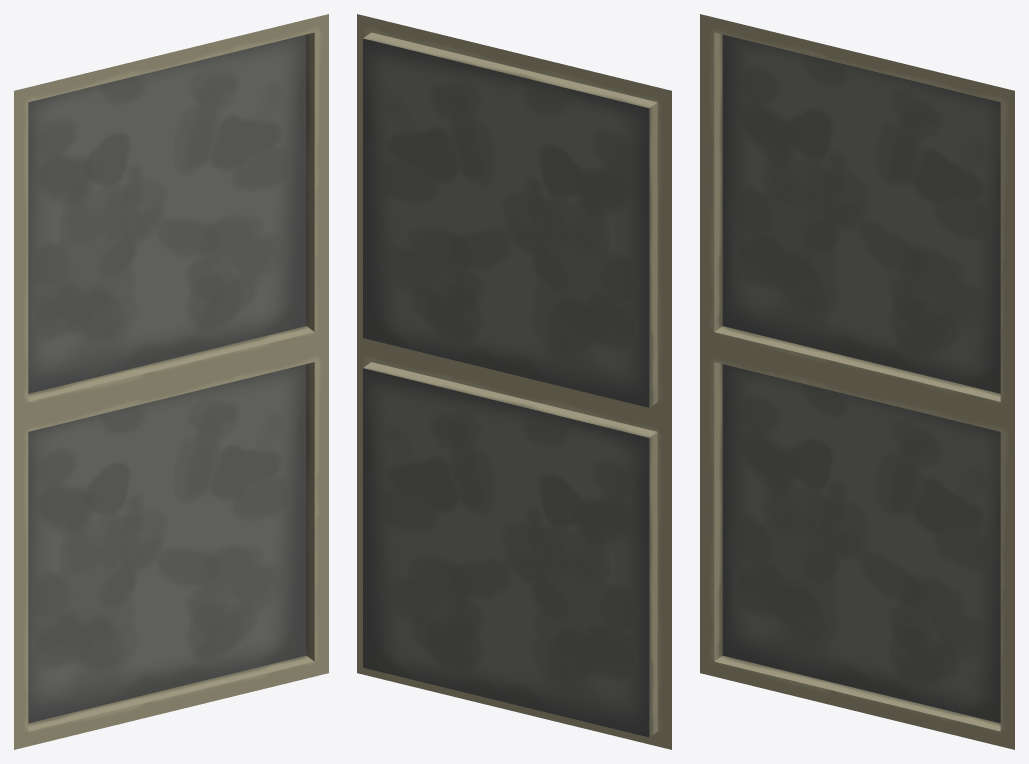
File: TempleWall1x2.obj
3 views of the same model, side by side, from view 1: azimuth 30°, elevation 25°; view 2: azimuth 150°, elevation 25°; view 3: azimuth 330°, elevation 25° (orthographic).
Visible parts, largest first — view 1: 1x2; view 2: 1x2; view 3: 1x2.
Boxes of the visible parts, x1,y1,x2,y2 form: 1x2: (14,14,328,749); 1x2: (357,14,671,749); 1x2: (700,14,1014,749).
Bounding box in the file's own units: 22 × 44 × 1.
Materials: 1 (1 with a texture image).
